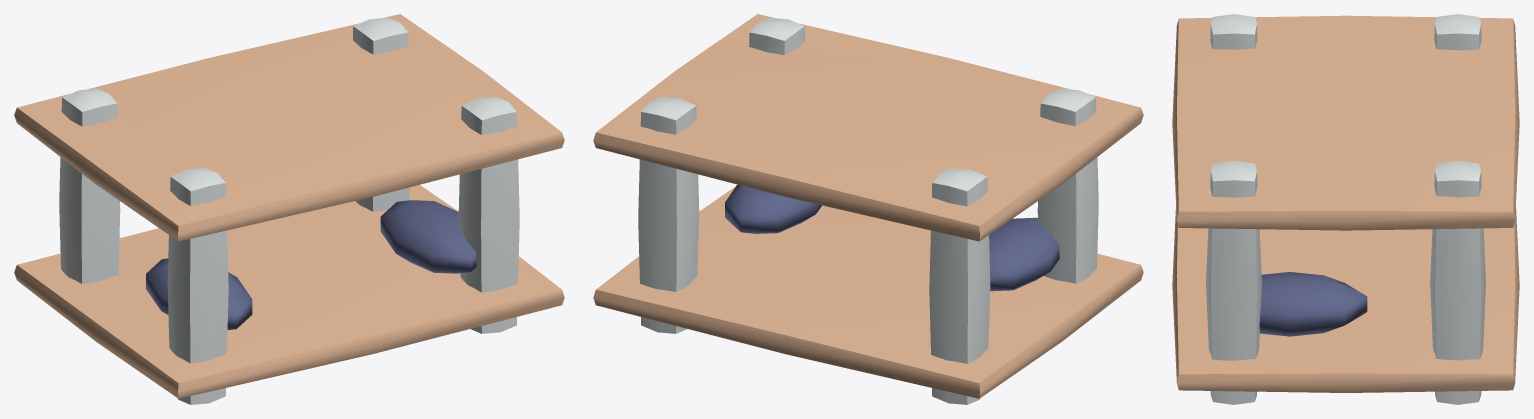
File: shoe-rack.glb
The picture shows the model from 3 angles, left to right: view 1: azimuth 30°, elevation 25°; view 2: azimuth 150°, elevation 25°; view 3: azimuth 270°, elevation 25°; orthographic projection. The views are drawn at different scales.
Parts seen in each view (by area): view 1: part (×6), detail (×2); view 2: part (×6), detail (×2); view 3: part (×6), detail.
Part boxes in pixels (left/top/right/bottom): part (×6): left=14, top=14, right=564, bottom=404; detail (×2): left=146, top=200, right=476, bottom=330; part (×6): left=593, top=14, right=1143, bottom=404; detail (×2): left=725, top=184, right=1059, bottom=291; part (×6): left=1172, top=14, right=1519, bottom=404; detail: left=1259, top=272, right=1367, bottom=336.
Size of the model in its own units: 0.84 by 0.46 by 0.62.
1 material, 1 textured.
